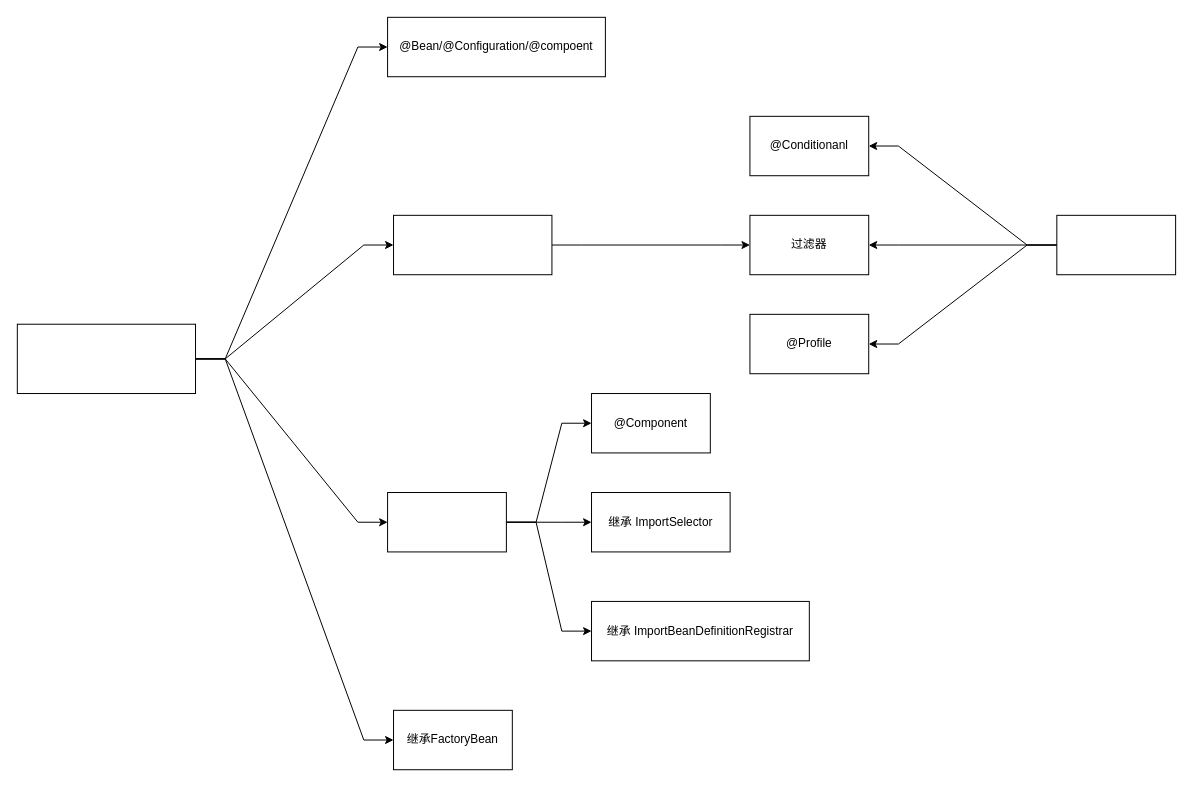
This 1193x787 diagram has some shape labels left out. The centre of each missing label's shape, as x and y in pixels:
"@CompoentScan扫描" belongs at [472,244].
"@Import" belongs at [446,522].
"Spring组件注册 4种方式" belongs at [106,358].
"条件注册" belongs at [1116,244].
